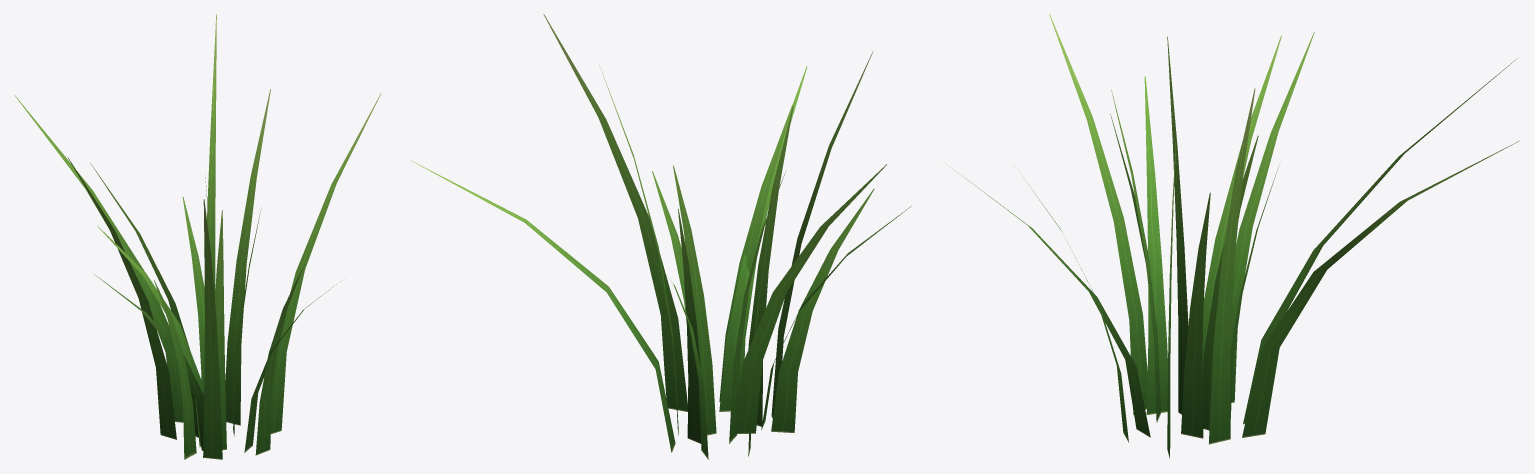
The model's file is grass_reed.glb.
3 views of the same model, side by side, from view 1: azimuth 30°, elevation 25°; view 2: azimuth 150°, elevation 25°; view 3: azimuth 270°, elevation 25° (orthographic). The views are drawn at different scales.
Visible parts, largest first — view 1: grass_reed; view 2: grass_reed; view 3: grass_reed.
Part boxes in pixels (x1,y1,x2,y2): grass_reed: (14,14,381,459); grass_reed: (410,14,911,459); grass_reed: (945,14,1519,458).
Bounding box in the file's own units: 1.79 × 1.77 × 2.41.
Materials: 1 (1 with a texture image).
